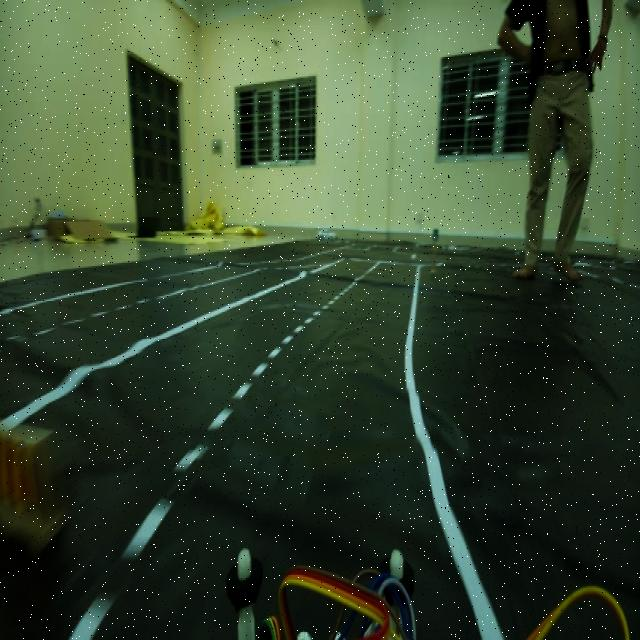roadblock: (3, 414, 59, 554)
